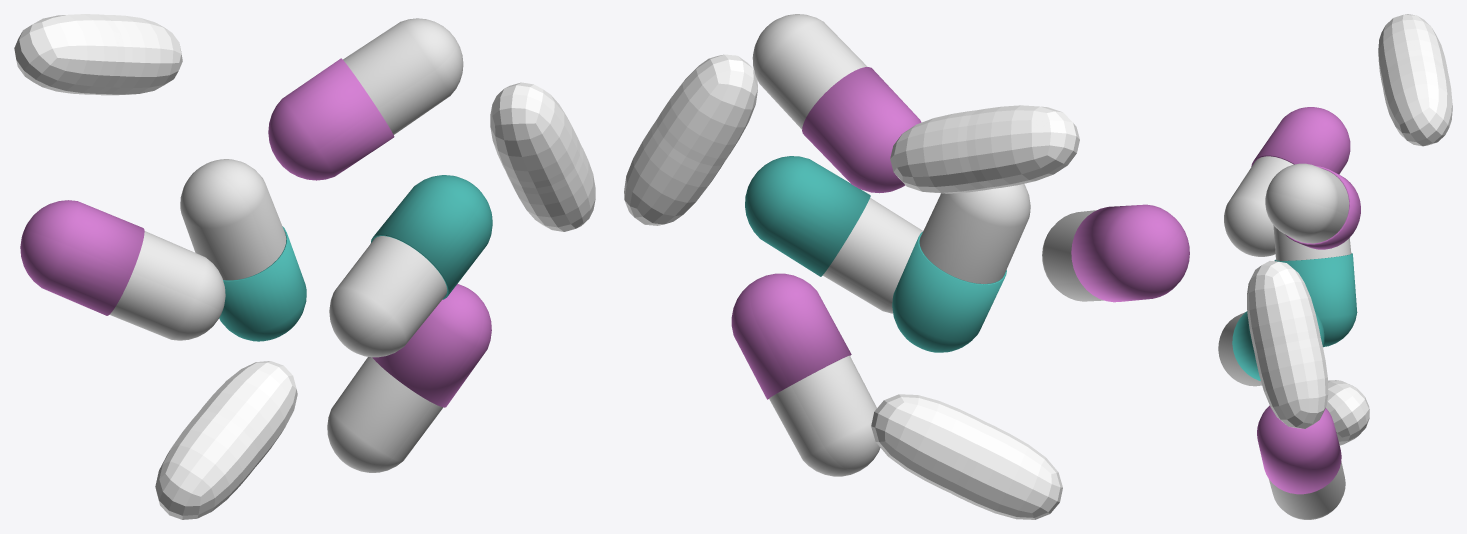
The model's file is meds.glb.
3 renders of one model, left to right at view 1: azimuth 30°, elevation 25°; view 2: azimuth 150°, elevation 25°; view 3: azimuth 270°, elevation 25°, orthographic. The views are drawn at different scales.
Visible parts, largest first — view 1: newcap2.1, newcap2.003, Sphere.005, newcap2.002, Sphere, Cube.001, Cube, Cube.002; view 2: newcap2.002, newcap2.1, Sphere.005, Sphere, Cube.001, Cube.002, Cube, newcap2.003; view 3: Cube.002, newcap2.003, Cube, newcap2.002, newcap2.1, Sphere, Sphere.005, Cube.001.
Boxes of the visible parts, x1,y1,x2,y2 form: newcap2.1: (268,18,463,180); newcap2.003: (20,200,225,340); Sphere.005: (329,175,492,357); newcap2.002: (327,284,491,472); Sphere: (180,159,306,341); Cube.001: (155,361,297,519); Cube: (14,14,182,95); Cube.002: (490,82,595,231); newcap2.002: (731,273,880,476); newcap2.1: (752,14,921,193); Sphere.005: (745,156,922,313); Sphere: (892,184,1030,352); Cube.001: (871,394,1062,519); Cube.002: (624,54,757,225); Cube: (890,105,1079,193); newcap2.003: (1042,204,1189,302); Cube.002: (1247,261,1328,428); newcap2.003: (1224,107,1350,256); Cube: (1378,14,1452,146); newcap2.002: (1257,405,1345,519); newcap2.1: (1265,163,1360,249); Sphere: (1273,225,1357,346); Sphere.005: (1218,311,1324,386); Cube.001: (1326,380,1369,445).
Bounding box in the file's own units: 11.58 × 9.29 × 5.03.
